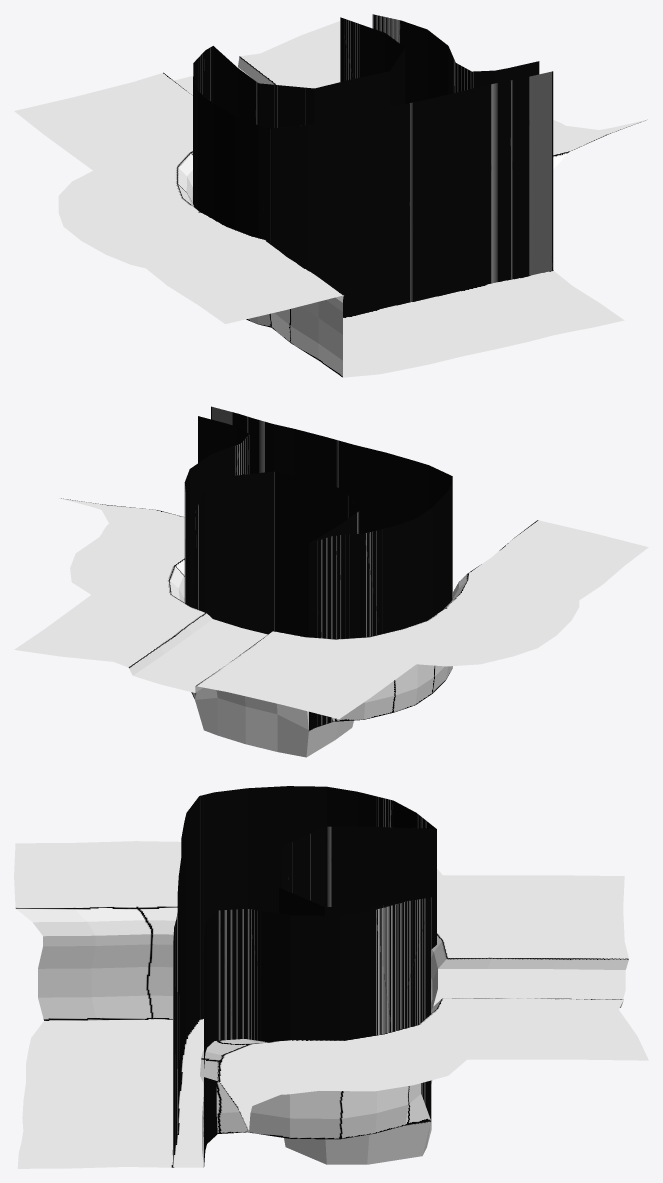
Rendered from Area11Mesh.fbx.
The picture shows the model from 3 angles, top to bottom: view 1: azimuth 30°, elevation 25°; view 2: azimuth 150°, elevation 25°; view 3: azimuth 270°, elevation 25°; orthographic projection. The views are drawn at different scales.
Visible parts, largest first — view 1: Wall, Terrain; view 2: Terrain, Wall; view 3: Terrain, Wall, Parth.
Boxes of the visible parts, left/top/right/bottom form: Wall: left=193, top=14, right=553, bottom=317; Terrain: left=14, top=21, right=647, bottom=377; Terrain: left=14, top=498, right=648, bottom=757; Wall: left=184, top=406, right=452, bottom=729; Terrain: left=14, top=841, right=648, bottom=1168; Wall: left=173, top=786, right=436, bottom=1166; Parth: left=173, top=1018, right=203, bottom=1167.
Size of the model in its own units: 19876 by 8265 by 17687.
Materials: 1 (1 with a texture image).
